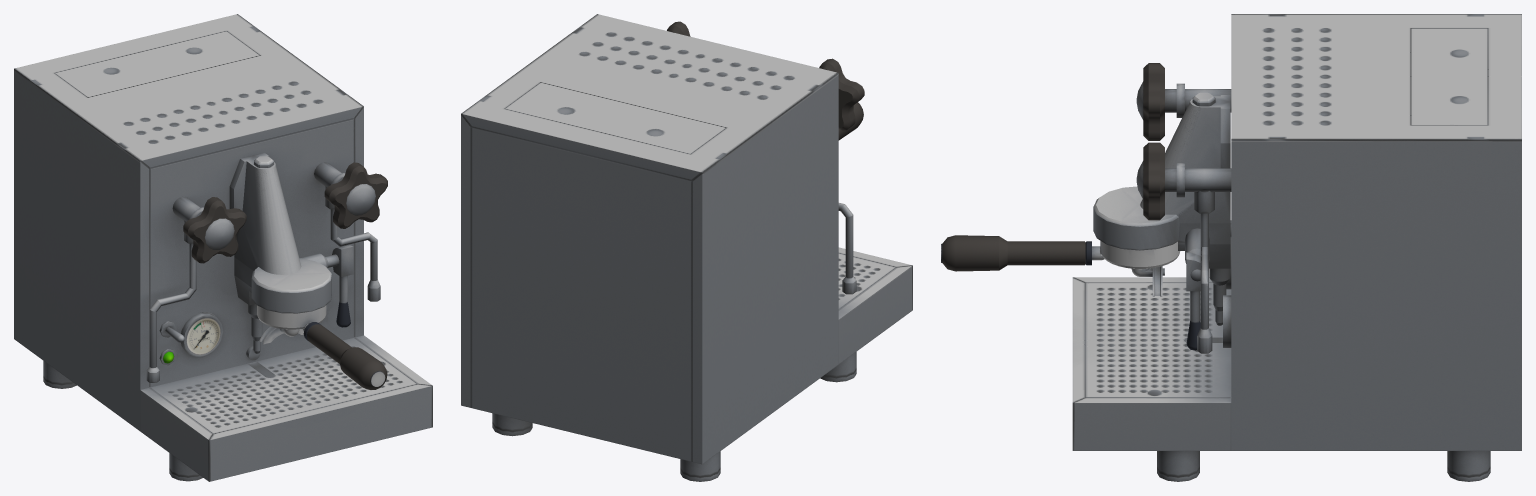
The model's file is espresso_machine.glb.
The picture shows the model from 3 angles, left to right: view 1: azimuth 30°, elevation 25°; view 2: azimuth 150°, elevation 25°; view 3: azimuth 270°, elevation 25°; orthographic projection. The views are drawn at different scales.
Parts seen in each view (by area): view 1: espresso_machine_mesh_Untitled.001; view 2: espresso_machine_mesh_Untitled.001; view 3: espresso_machine_mesh_Untitled.001.
Part boxes in pixels (x1=…): espresso_machine_mesh_Untitled.001: x1=14, y1=14, x2=432, y2=481; espresso_machine_mesh_Untitled.001: x1=461, y1=14, x2=912, y2=481; espresso_machine_mesh_Untitled.001: x1=941, y1=14, x2=1521, y2=481.
Bounding box in the file's own units: 0.2948 × 0.3683 × 0.5582.
2 materials, 2 textured.
